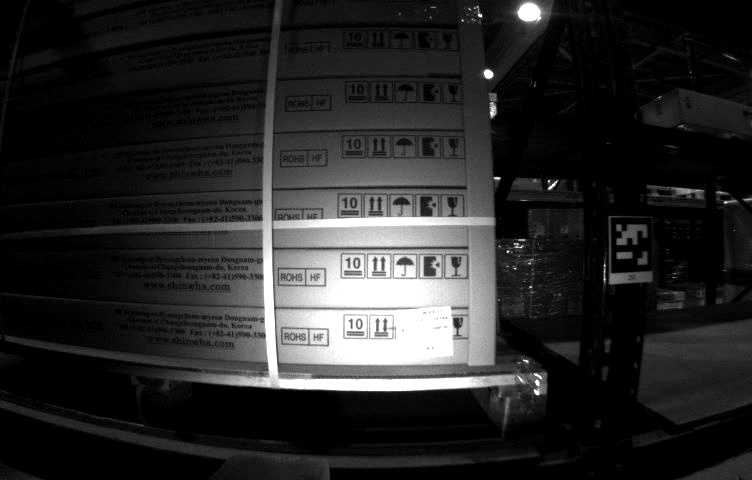True Barcode: (392, 309, 453, 356)
